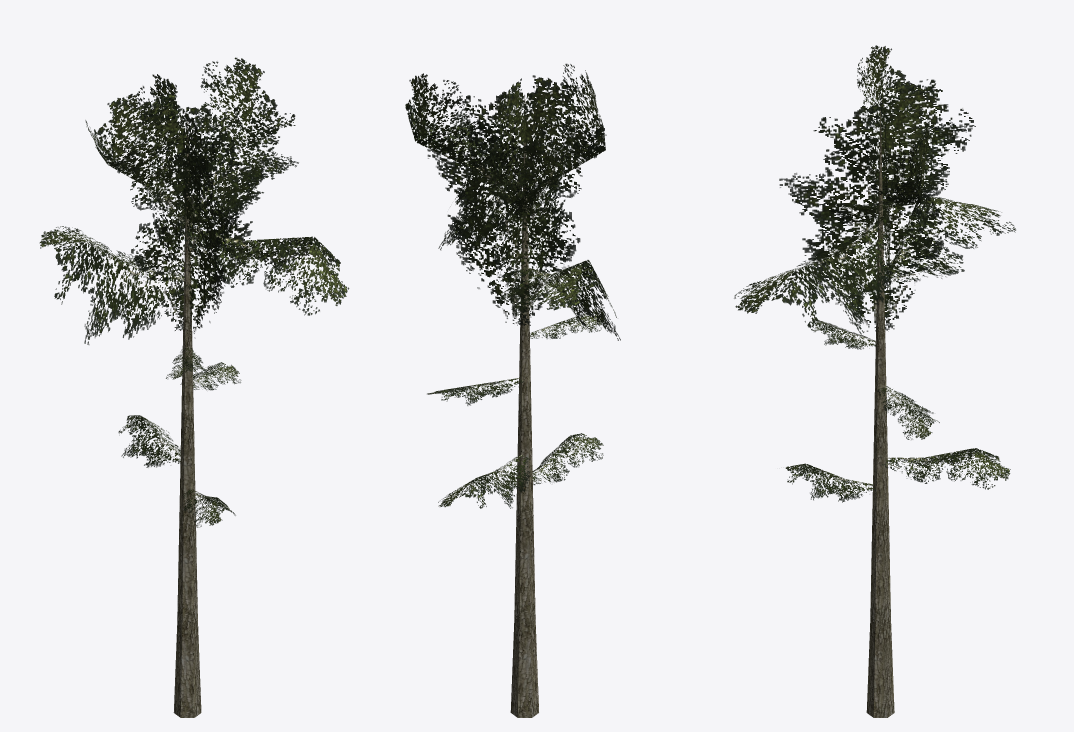
File: tree-birch-mid.glb
3 renders of one model, left to right at view 1: azimuth 30°, elevation 25°; view 2: azimuth 150°, elevation 25°; view 3: azimuth 270°, elevation 25°, orthographic. The views are drawn at different scales.
Parts seen in each view (by area): view 1: Tree_7; view 2: Tree_7; view 3: Tree_7.
Part boxes in pixels (left/top/right/bottom): Tree_7: left=39, top=57, right=349, bottom=717; Tree_7: left=405, top=63, right=620, bottom=717; Tree_7: left=734, top=45, right=1015, bottom=717.
Size of the model in its own units: 4.88 by 10.42 by 5.09.
2 materials, 2 textured.
